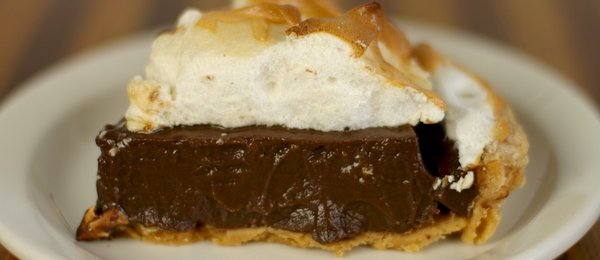sushi: (72, 2, 545, 250)
